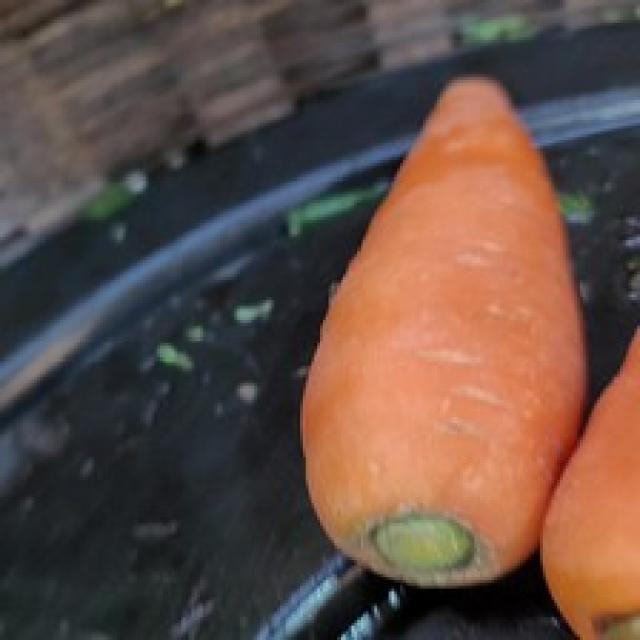carrot: (306, 77, 586, 587)
